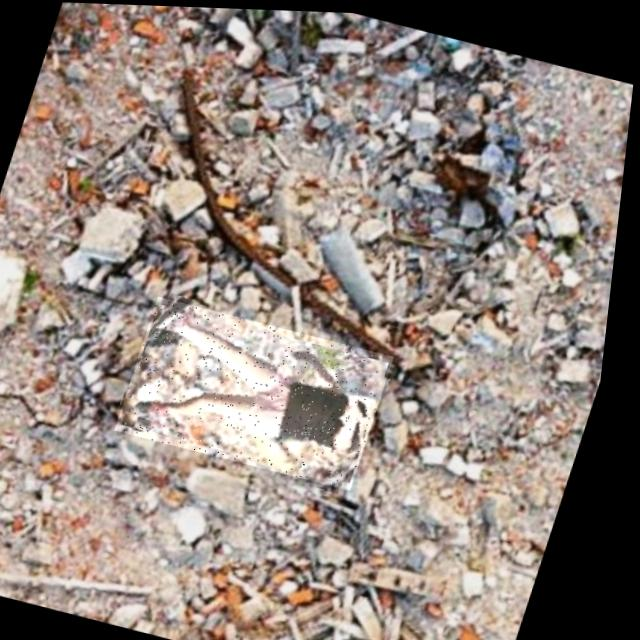Person in Rubble: (118, 294, 405, 488)
